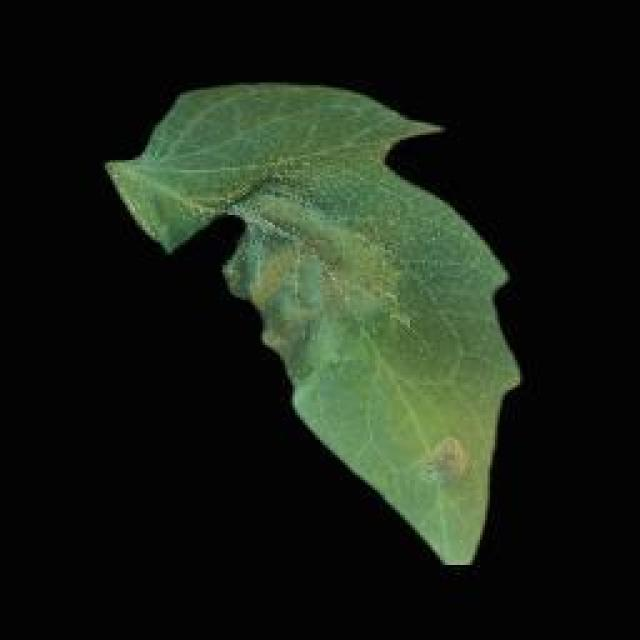Tomato Late Blight: (192, 137, 503, 508)
